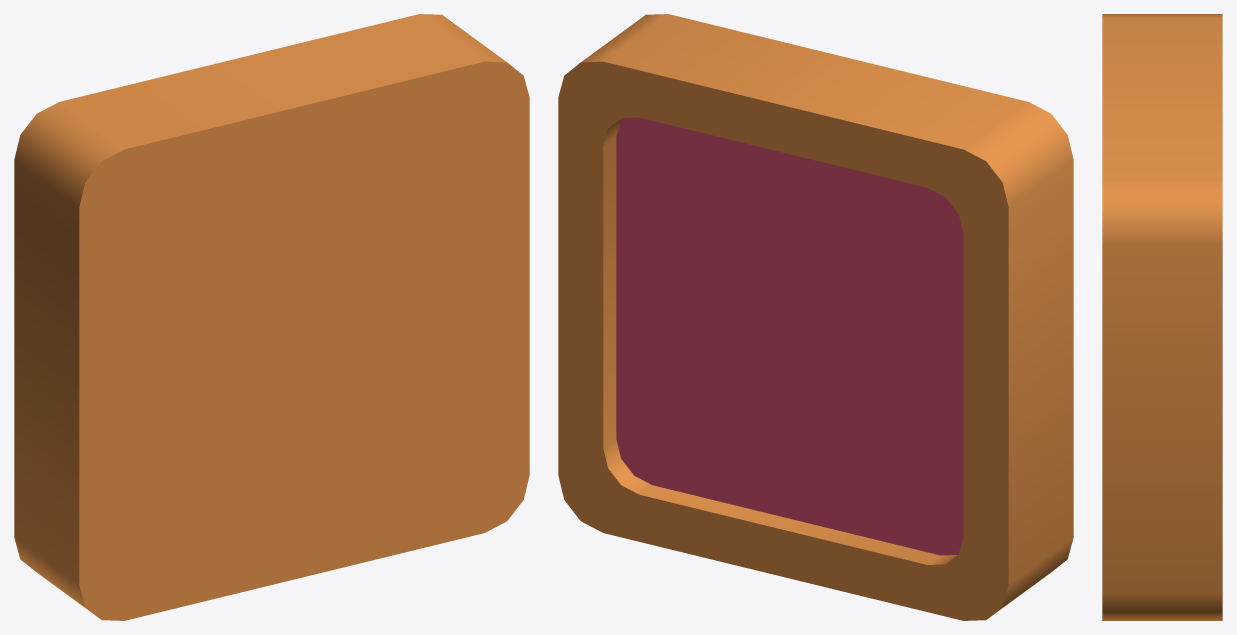
The model's file is target.fbx.
3 views of the same model, side by side, from view 1: azimuth 30°, elevation 25°; view 2: azimuth 150°, elevation 25°; view 3: azimuth 270°, elevation 25° (orthographic). The views are drawn at different scales.
Parts seen in each view (by area): view 1: Target; view 2: Target; view 3: Target.
Part boxes in pixels (left/top/right/bottom): Target: left=14, top=14, right=529, bottom=620; Target: left=558, top=14, right=1073, bottom=620; Target: left=1102, top=14, right=1222, bottom=620.
Bounding box in the file's own units: 50 × 50 × 12.5.
